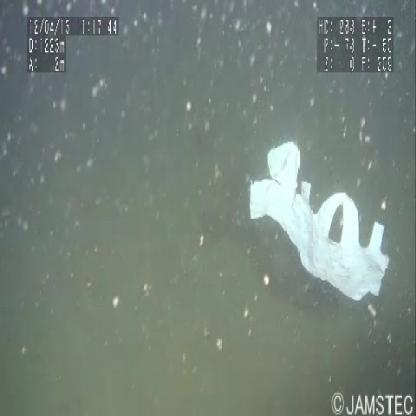Rác: (248, 139, 390, 304)
